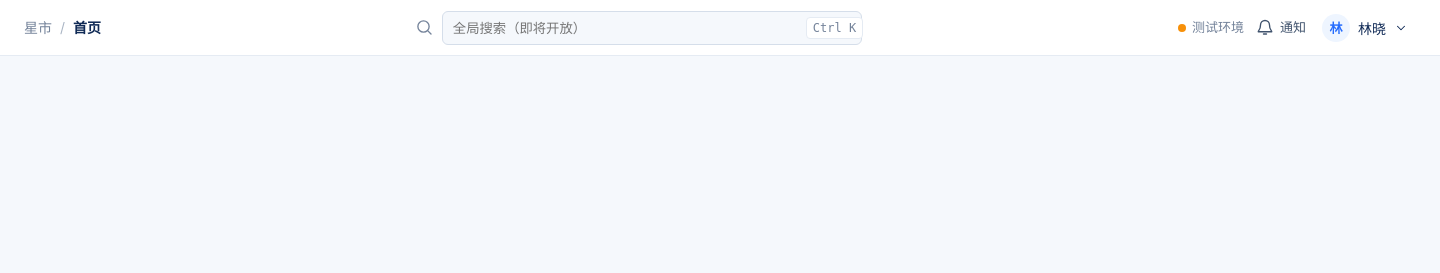
it: AUTH3 logout › replaces the document with /login when the in-app navigation stays on the page
The width and height of the screenshot is (1440, 273).
Click the button with test id "shell-user": (1367, 28) [1318, 10, 1416, 44]
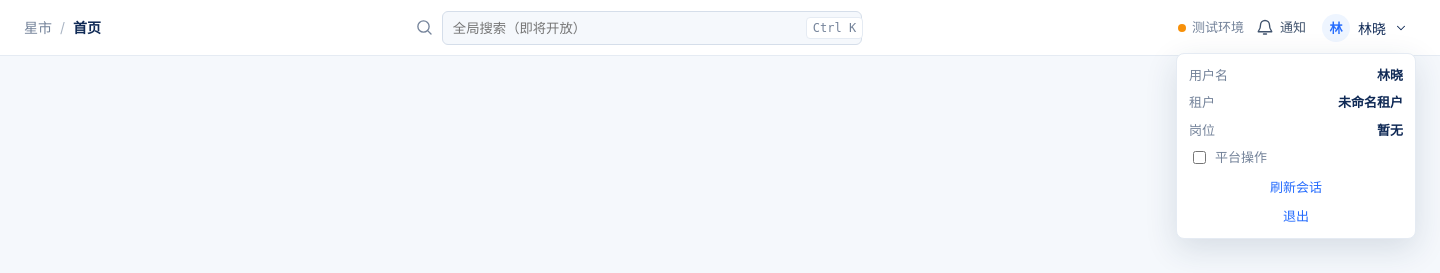
Click the button "退出": (1296, 215) [1189, 204, 1403, 226]
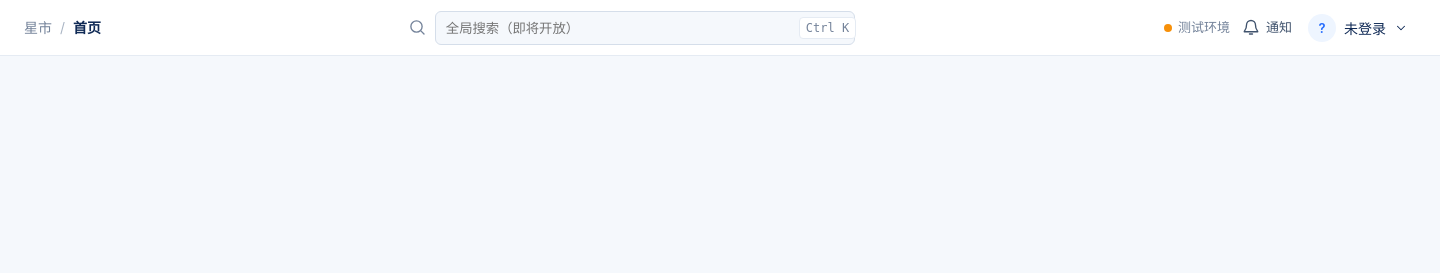
Expected: the text "未登录" is shown, [1344, 18, 1386, 38]
